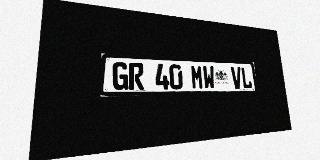0: (169, 64, 183, 90)
4: (155, 63, 169, 90)
G: (112, 62, 128, 90)
L: (241, 67, 252, 89)
M: (190, 65, 204, 89)
R: (129, 62, 144, 90)
V: (230, 67, 243, 89)
W: (202, 65, 215, 89)
